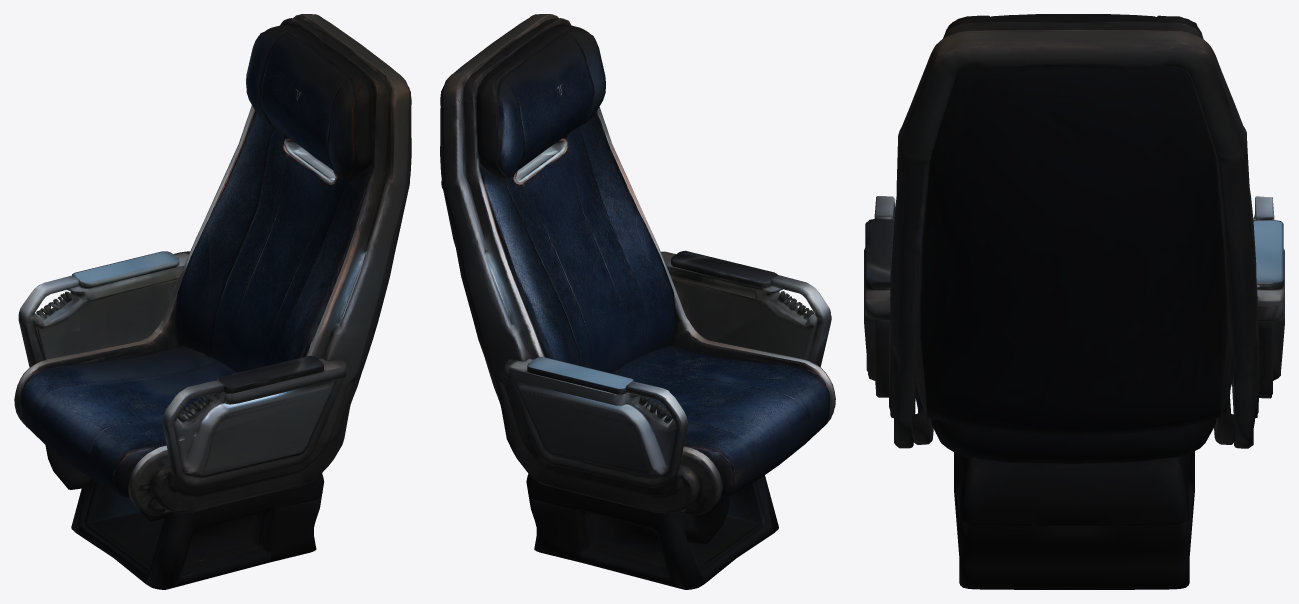
File: assets_train_seat.glb
3 renders of one model, left to right at view 1: azimuth 30°, elevation 25°; view 2: azimuth 150°, elevation 25°; view 3: azimuth 270°, elevation 25°, orthographic. The views are drawn at different scales.
Parts seen in each view (by area): view 1: tripo_node_3f0b14df; view 2: tripo_node_3f0b14df; view 3: tripo_node_3f0b14df.
Part boxes in pixels (bbox=[...]): tripo_node_3f0b14df: bbox=[14, 14, 411, 589]; tripo_node_3f0b14df: bbox=[440, 14, 835, 589]; tripo_node_3f0b14df: bbox=[864, 14, 1284, 589].
Size of the model in its own units: 0.6855 by 0.998 by 0.6309.
1 material, 1 textured.
